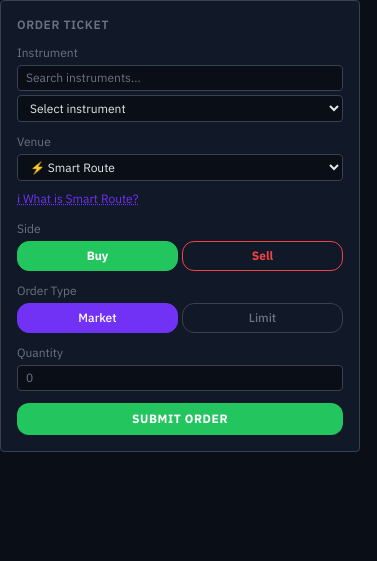
OrderTicket › prevents selling when no position is held
The image size is (377, 561).
Step 1. Select "BTC/USD - Bitcoin" in the dropdown labelled "Instrument" → (180, 108), box [17,95,343,122]
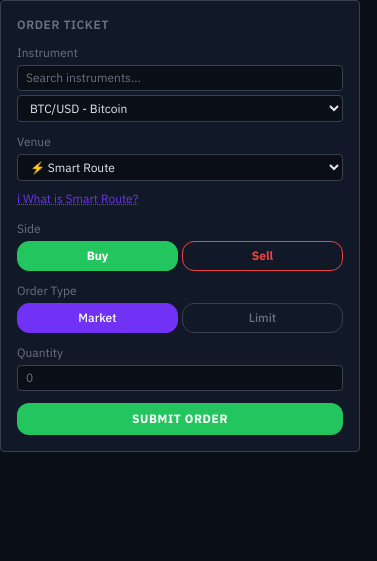
Step 2. Type "5" into the number field labelled "Quantity" → (180, 378), box [17,365,343,391]
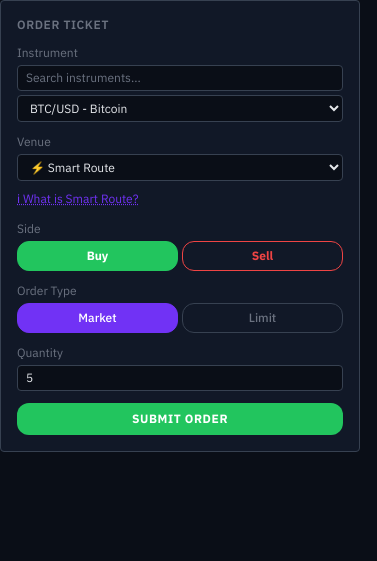
Step 3. Click the button "Sell" → click(262, 256), box [182,241,343,271]
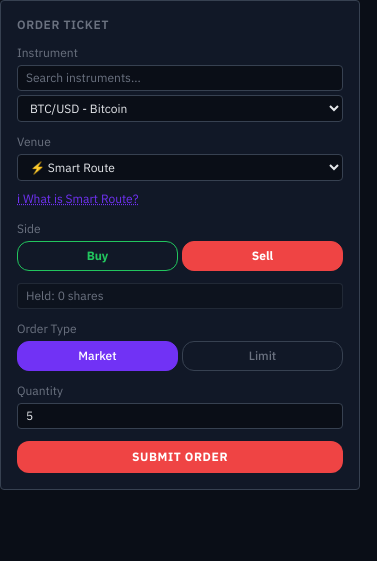
Step 4. Click the button "Submit Order" → click(180, 457), box [17,441,343,473]
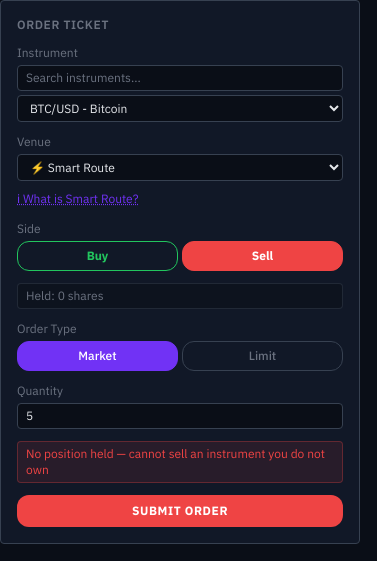
Check: the text "No position held — cannot sell an instrument you do not own" is shown, box [17,441,343,483]
